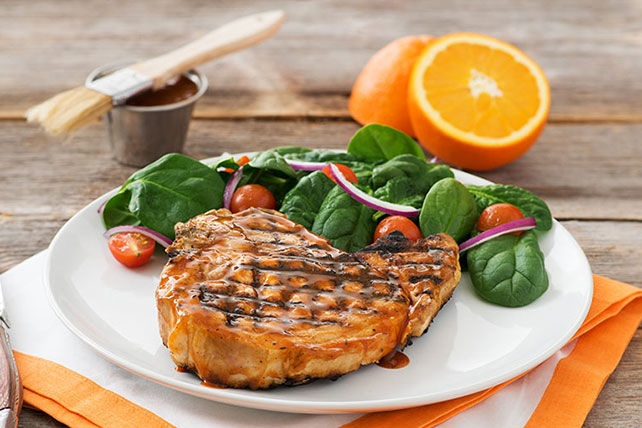background: (102, 21, 554, 260), (76, 21, 198, 70)
